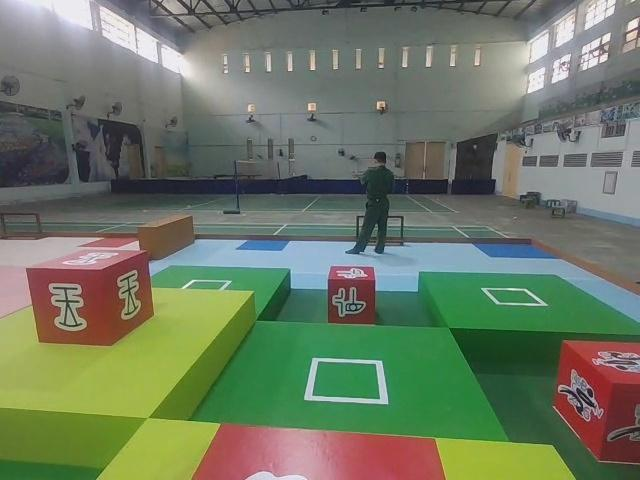R1: (550, 336, 640, 467)
R2 Real: (26, 246, 154, 345), (325, 264, 378, 327)
